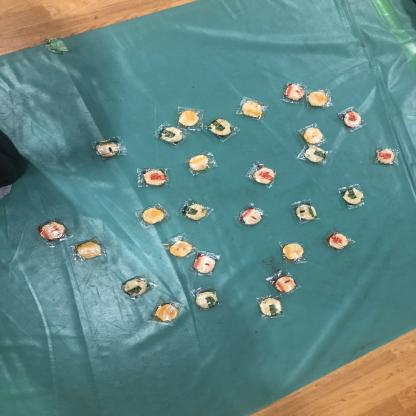green_setoshio: (89, 135, 128, 161), (118, 273, 155, 299), (294, 144, 336, 166), (176, 197, 212, 222), (256, 293, 287, 321), (205, 116, 238, 141), (337, 184, 368, 210), (154, 123, 190, 145), (191, 288, 220, 312), (292, 200, 321, 223)
red_setoshio: (36, 218, 72, 246), (266, 270, 302, 296), (135, 164, 170, 189), (248, 161, 279, 188), (191, 251, 222, 277), (237, 204, 268, 229), (338, 107, 366, 132), (323, 230, 354, 252), (281, 80, 307, 106), (376, 147, 401, 166)
yellow_setoshio: (149, 297, 185, 325), (136, 203, 171, 230), (236, 95, 270, 121), (72, 237, 107, 262), (163, 234, 196, 258), (278, 240, 306, 266), (296, 124, 328, 146), (175, 106, 204, 130), (186, 152, 216, 175), (308, 88, 333, 109)
